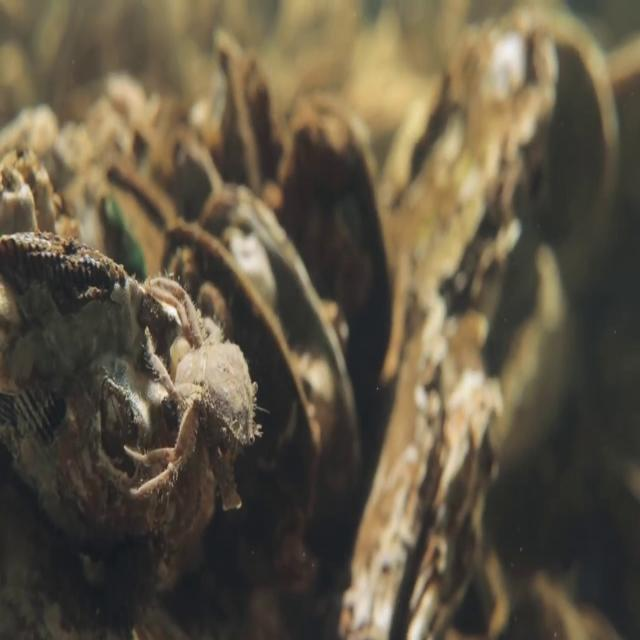Oyster-Indeterminate: (338, 300, 502, 639), (274, 102, 392, 440)
Oyster-Open: (160, 183, 364, 520)
